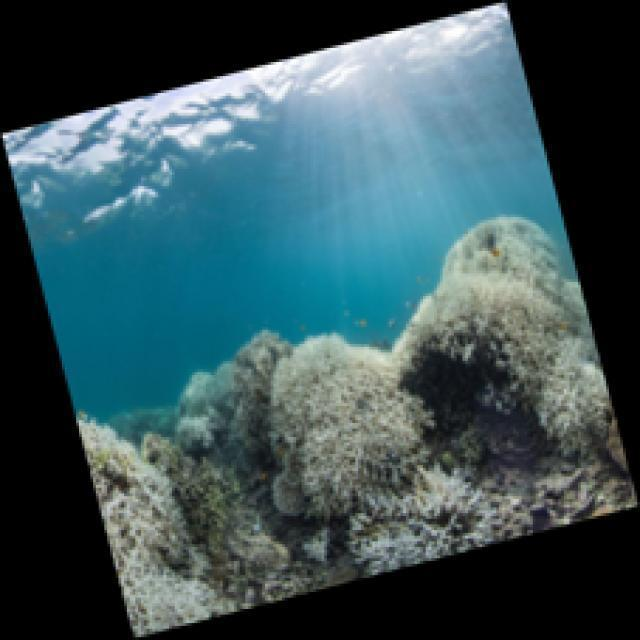Dead Coral: (200, 308, 513, 542), (361, 219, 637, 456), (70, 366, 289, 629)
